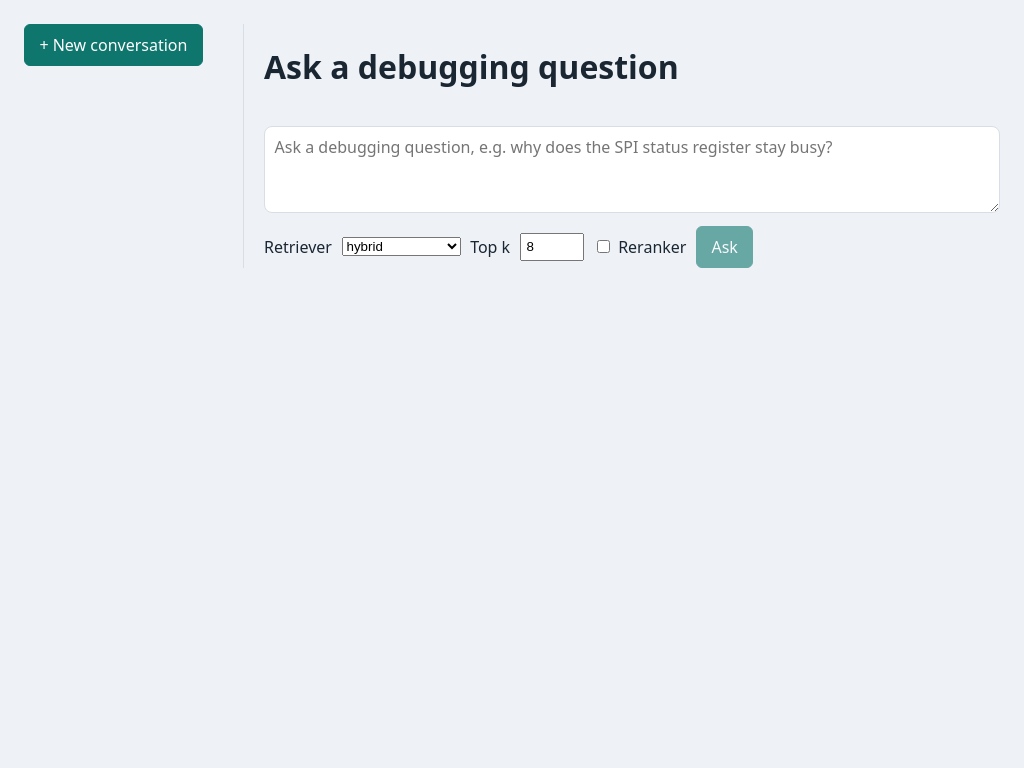
AskPage › sends a question and renders the grounded answer with a source
Type "why does the flag stay set?" into the text box labelled "question" at [632, 170], box top-left (264, 126), bottom-right (1000, 213)
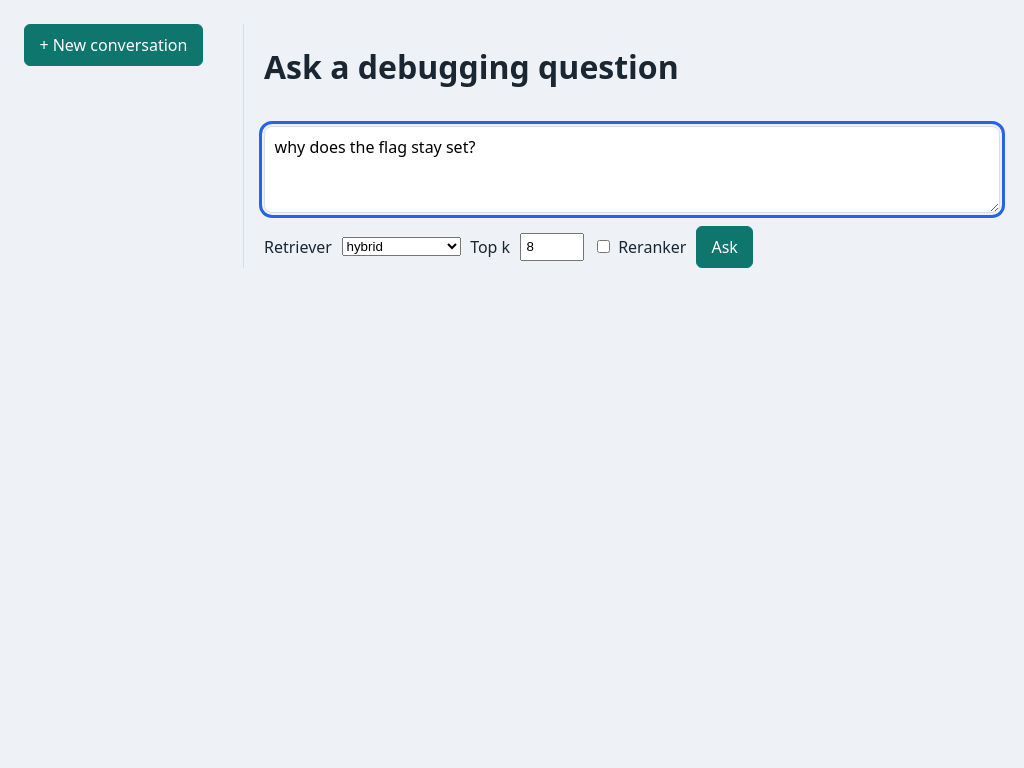
Click the button "Ask" at [725, 247], box top-left (696, 226), bottom-right (753, 268)
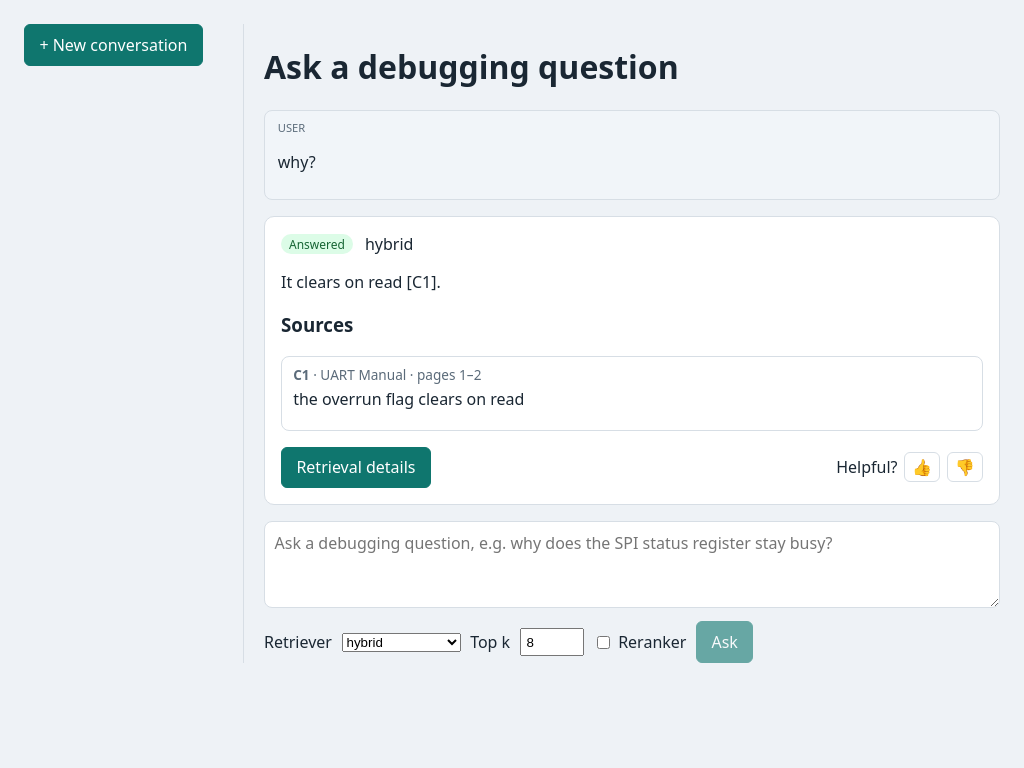
Result: the text "It clears on read [C1]." is shown at top-left (281, 271), bottom-right (441, 293)
Result: the text "C1 · UART Manual · pages 1–2" is shown at top-left (293, 364), bottom-right (482, 384)
Result: the text "Answered" is shown at top-left (281, 234), bottom-right (353, 254)
